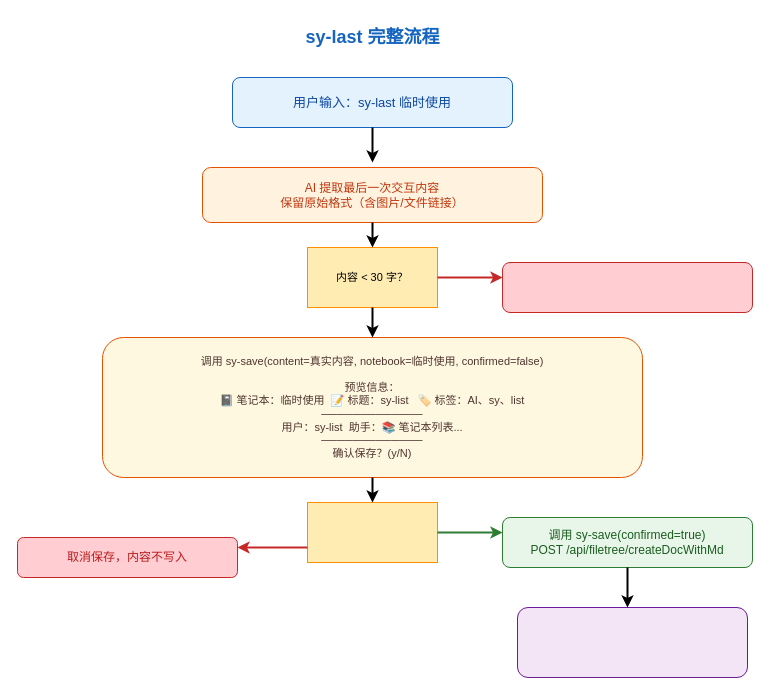
The diagram is 770 pixels wide and 695 high, and some of its shapes have lost their labels. The box of each missing label's shape, as (x1, y1, x2, y2) in pixels:
✅ 已保存 📓 临时使用 / sy-list 🔗 siyuan://blocks/202606...: (516, 606, 748, 678)
拒绝：内容过短，请提供完整内容 或使用 last/session 标记: (502, 262, 752, 312)
用户确认？: (306, 502, 438, 562)
